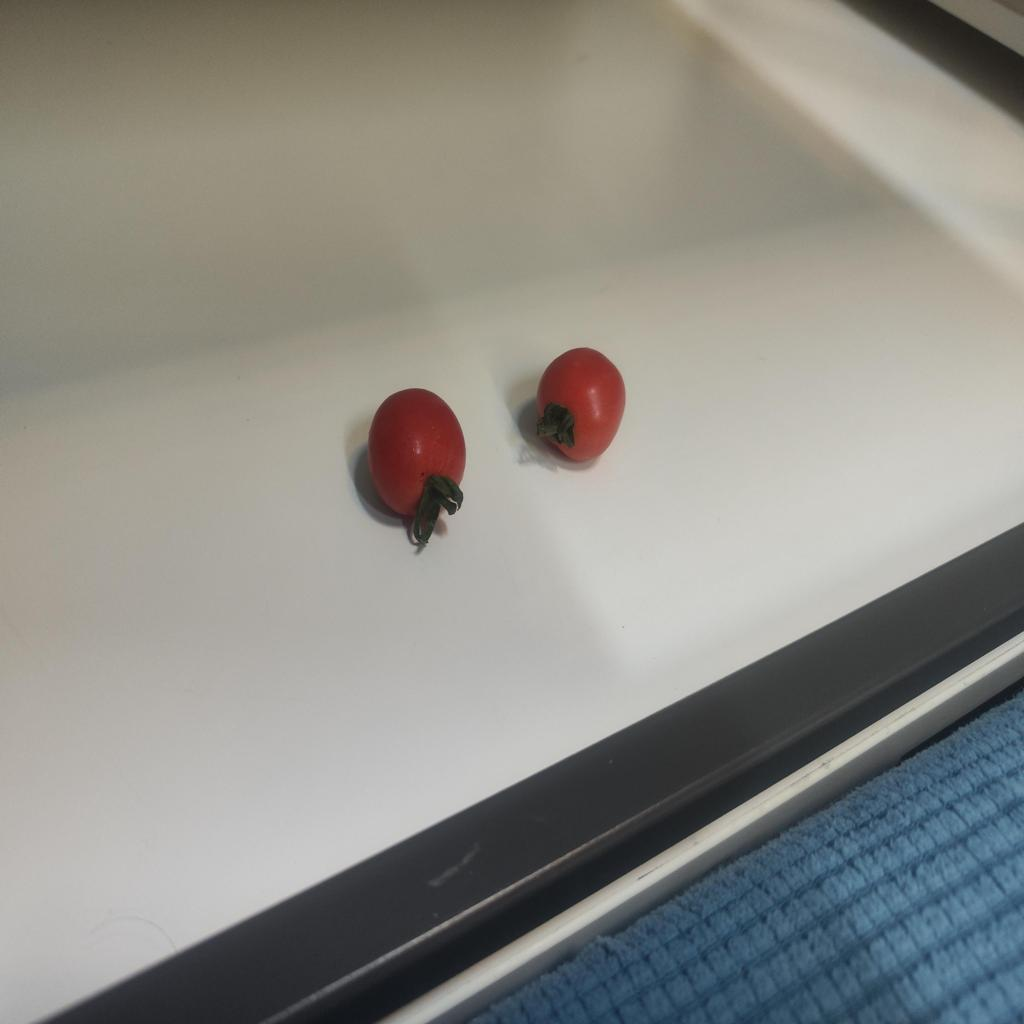tomato: (359, 384, 475, 543), (536, 349, 624, 456)
